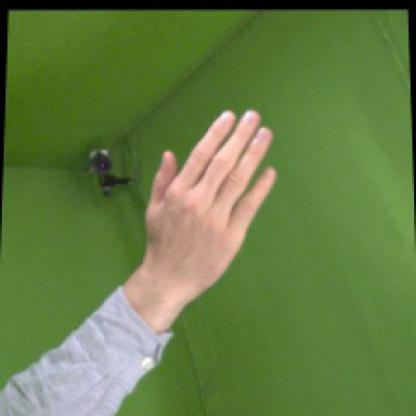Hand: (144, 108, 278, 298)
